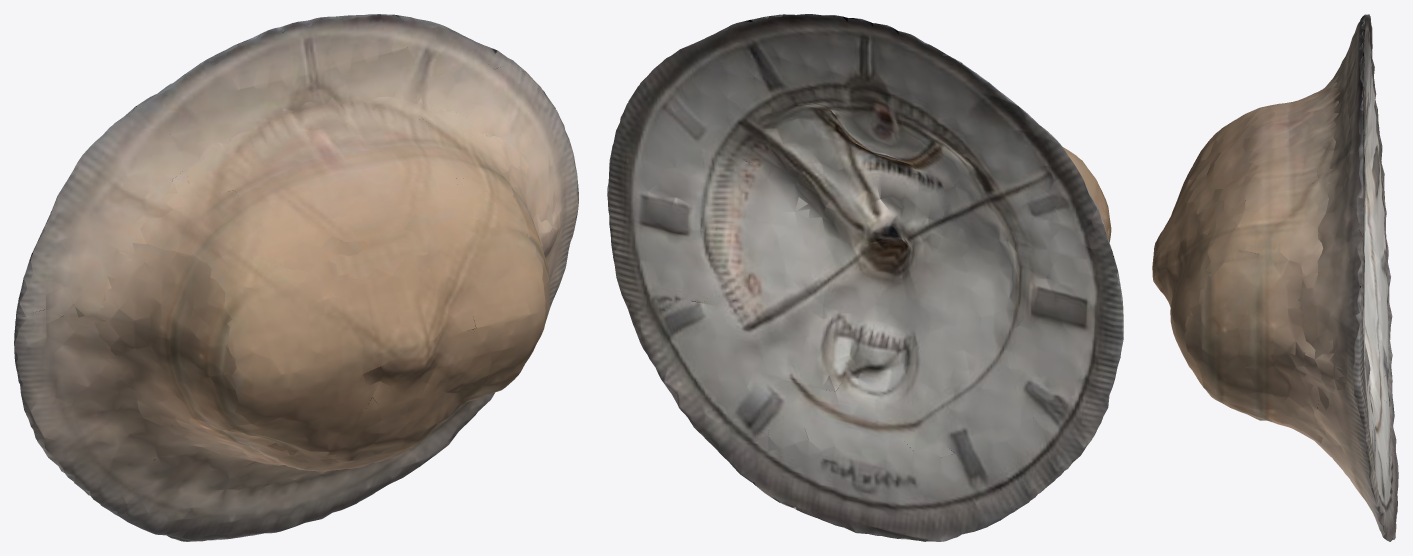
The model's file is 15_07_00_21_chronometer.glb.
3 views of the same model, side by side, from view 1: azimuth 30°, elevation 25°; view 2: azimuth 150°, elevation 25°; view 3: azimuth 270°, elevation 25° (orthographic). The views are drawn at different scales.
Visible parts, largest first — view 1: world; view 2: world; view 3: world.
Part boxes in pixels (x1,y1,x2,y2): world: [14, 14, 578, 541]; world: [607, 14, 1123, 541]; world: [1152, 14, 1398, 541].
Bounding box in the file's own units: 0.8695 × 0.785 × 0.3705.
1 material, 1 textured.
